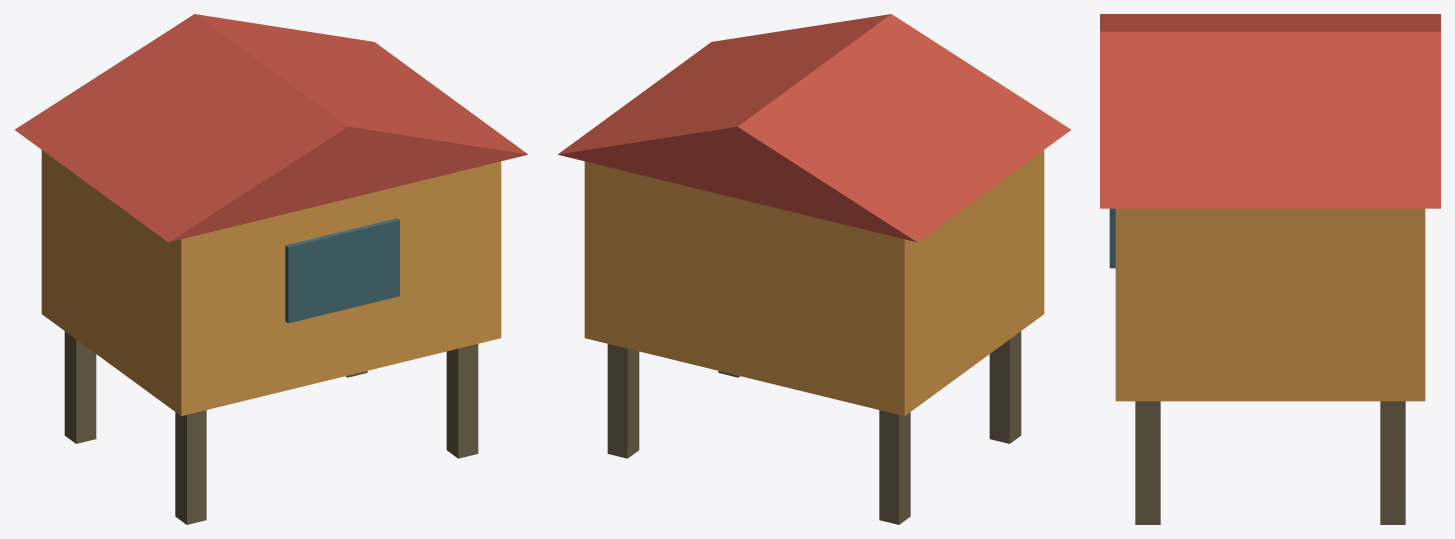
File: lifeguard-hut.glb
3 views of the same model, side by side, from view 1: azimuth 30°, elevation 25°; view 2: azimuth 150°, elevation 25°; view 3: azimuth 270°, elevation 25° (orthographic). The views are drawn at different scales.
Parts seen in each view (by area): view 1: lifeguard-hut; view 2: lifeguard-hut; view 3: lifeguard-hut.
Part boxes in pixels (x1,y1,x2,y2): lifeguard-hut: (14,14,527,524); lifeguard-hut: (558,14,1071,524); lifeguard-hut: (1100,14,1440,524).
Bounding box in the file's own units: 4.51 × 4.48 × 3.34.
